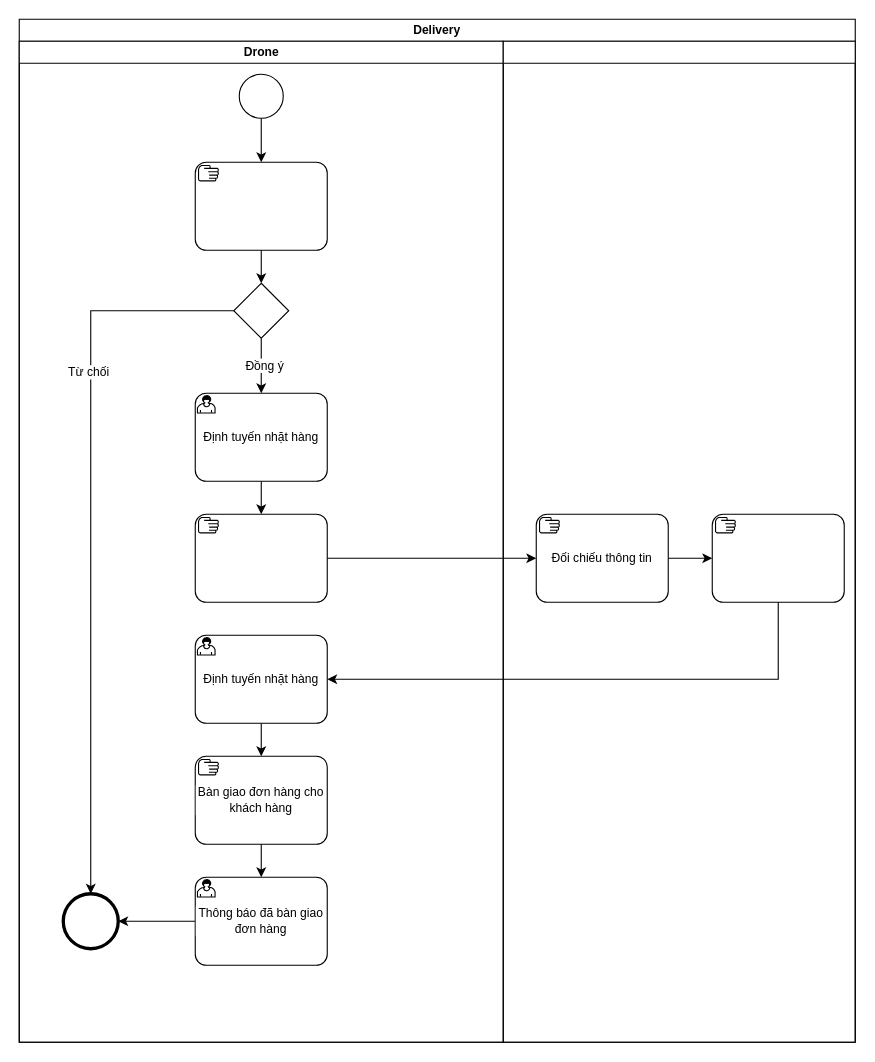
Image size: 875x1062. Some labels were removed from this diagram. Here are the shapes that lost their labels. From the top down, the box of each, then its label:
(194, 161, 327, 250): Xử lý thông báo công việc giao hàng
(194, 513, 327, 602): Thông báo đã tới cửa hàng
(502, 40, 855, 1042): Cửa hàng
(711, 513, 844, 602): Bàn giao đơn hàng
